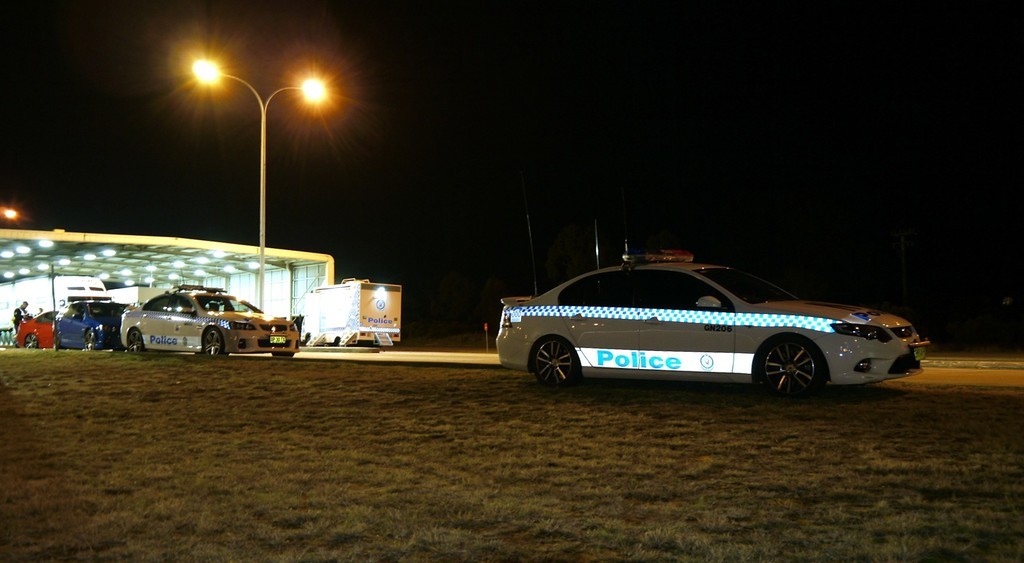Car: (496, 216, 929, 397), (122, 282, 300, 359), (55, 295, 122, 350), (14, 308, 60, 349)
